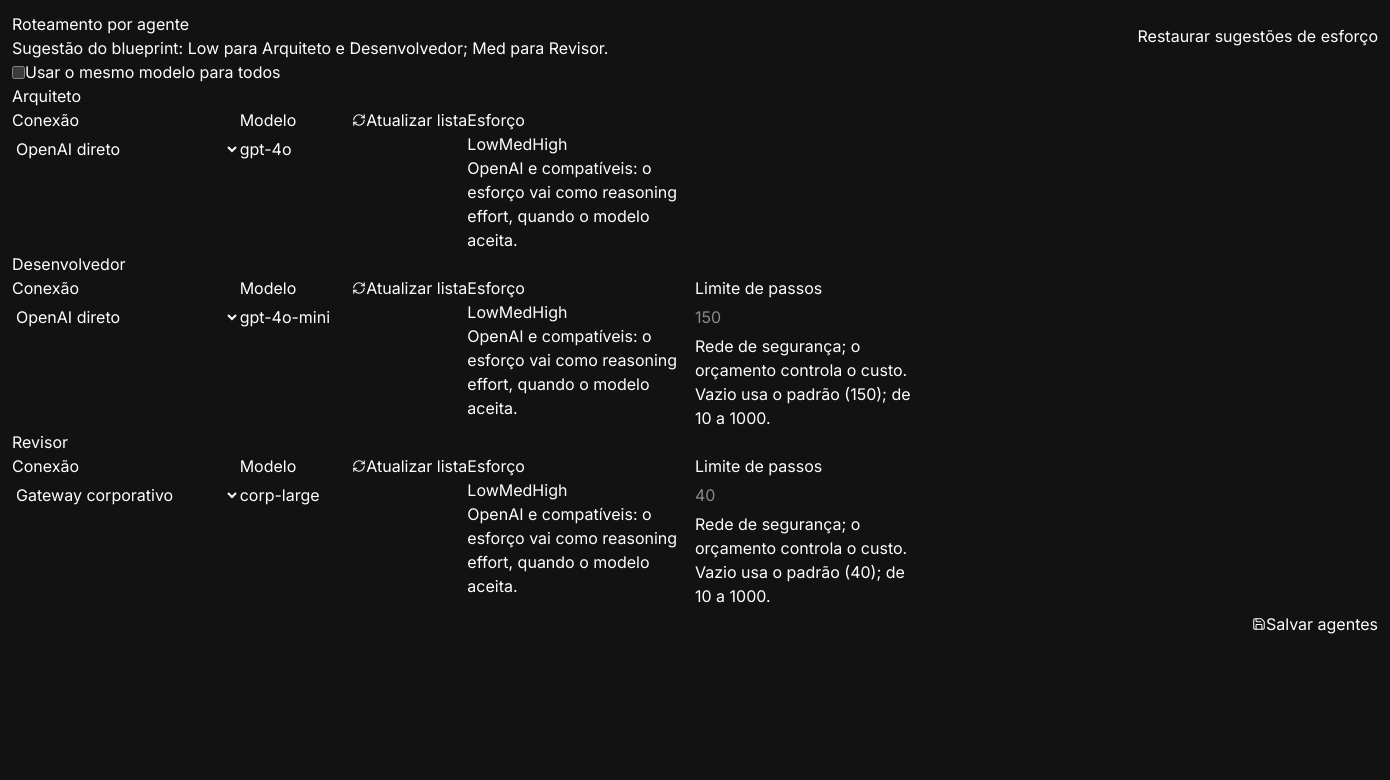
Scenario: AgentsForm: lista de modelos › carrega os modelos da conexão salva e lista como opções filtráveis
The image size is (1390, 780).
Click the dropdown named "Modelo do" at (354, 149), box 240,132 -> 467,166
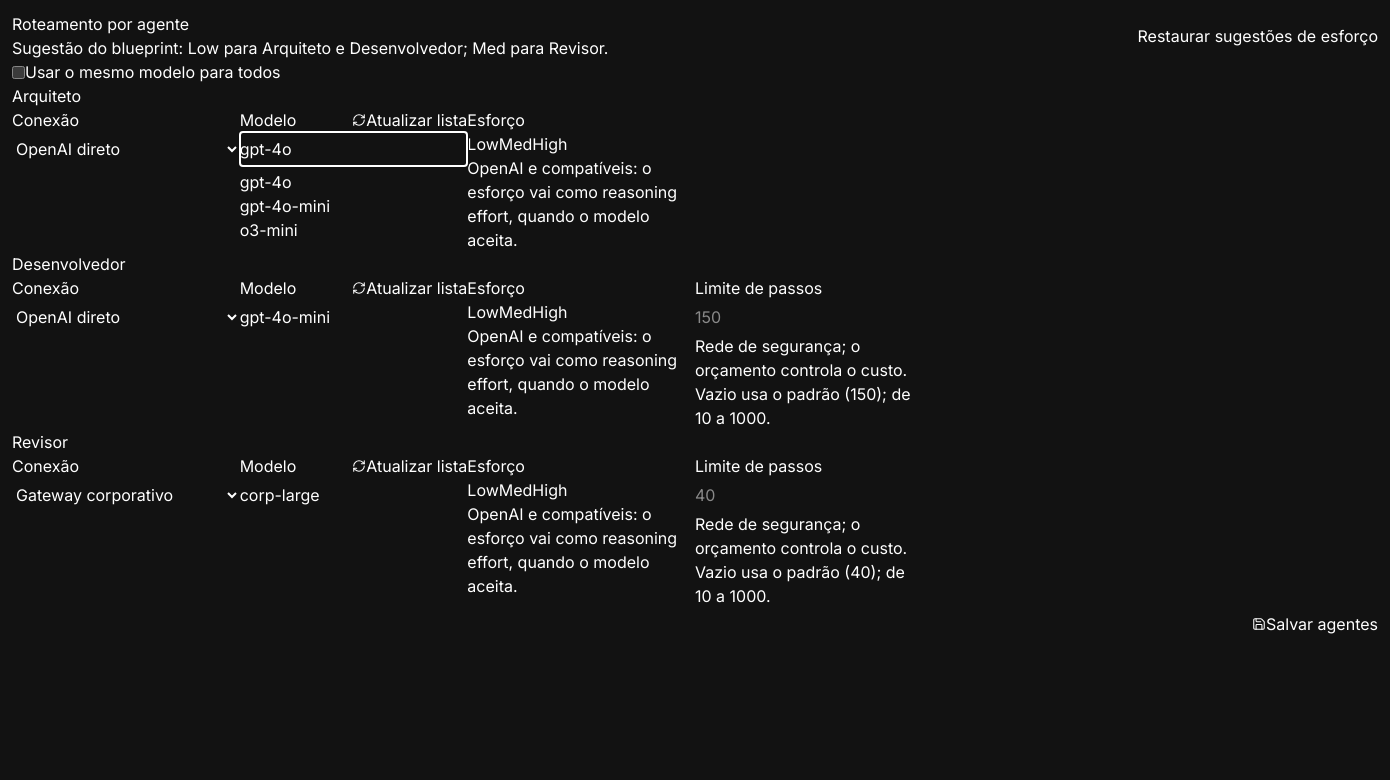
Check: the number of options is 3, box 240,172 -> 292,192; 240,196 -> 330,216; 240,220 -> 298,240
Check: the list is shown, box 240,172 -> 330,240
Replace the text in the dropdown named "Modelo do" with "GPT-4O-M" at (354, 149), box 240,132 -> 467,166
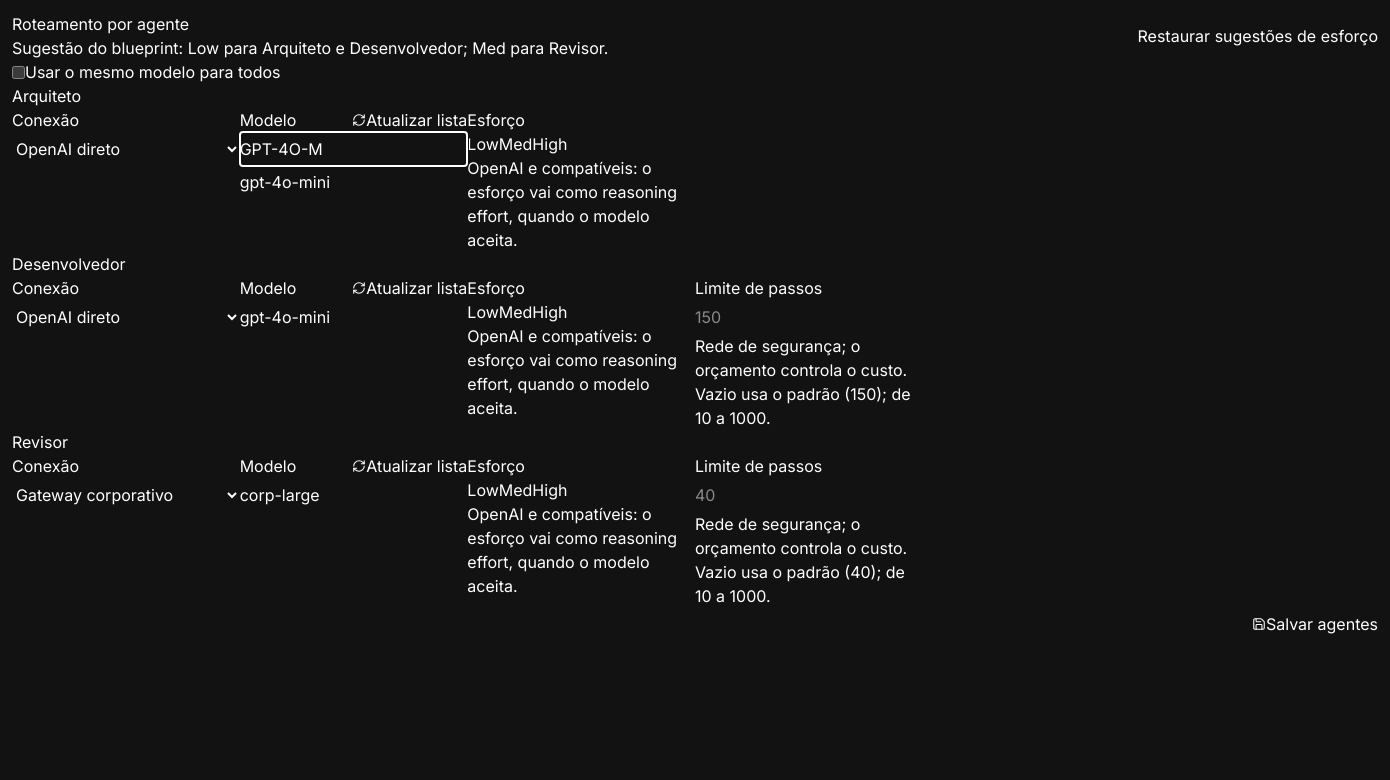
Check: the options read "gpt-4o-mini", in this order, box 240,172 -> 330,192
